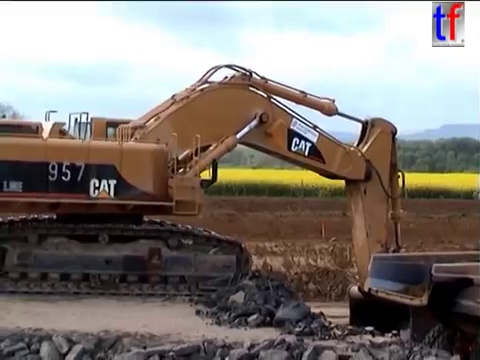excavator: (1, 60, 422, 360)
truck: (359, 246, 480, 360)
